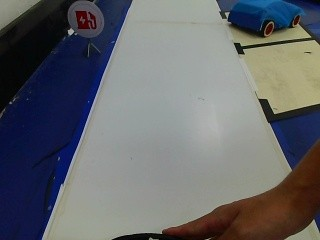battery: (65, 2, 102, 41)
car: (228, 0, 299, 39)
